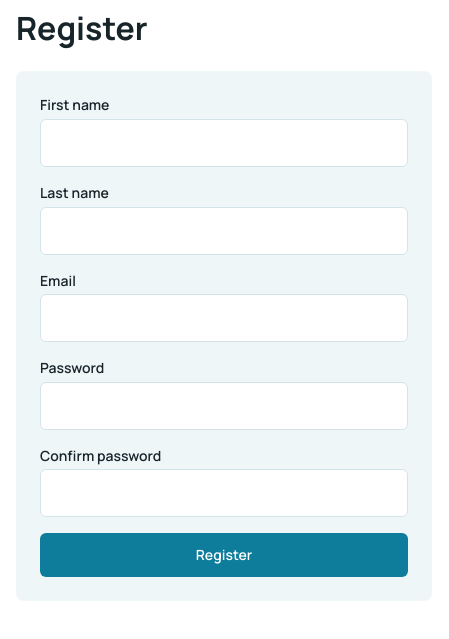
Register › shows a duplicate-email error and retains the entered email on 409
Type "John" into the field labelled "First name" at (224, 143), box 40,119 -> 408,167
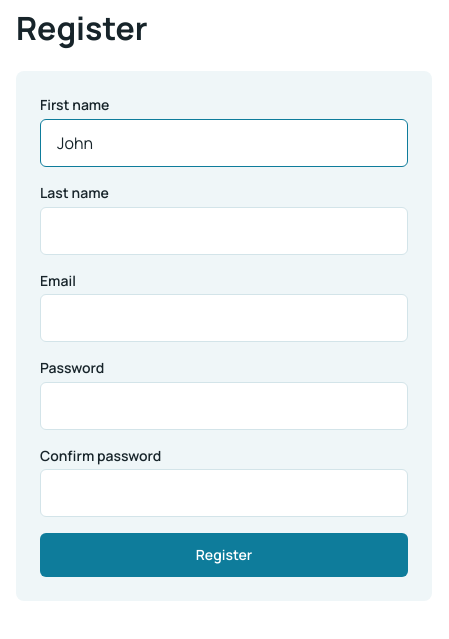
Type "Smith" into the field labelled "Last name" at (224, 231), box 40,207 -> 408,255
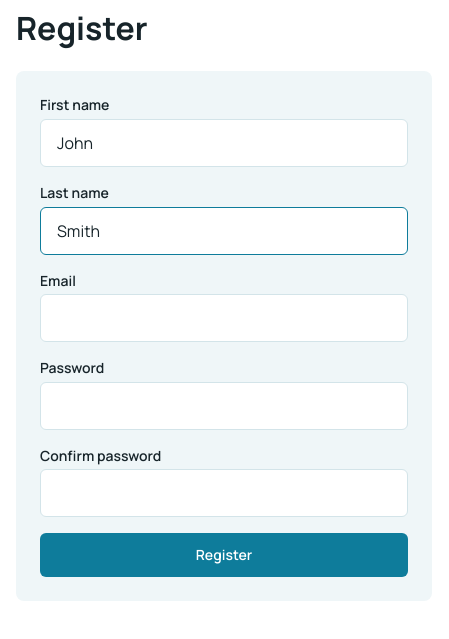
Type "john@example.com" into the field labelled "Email" at (224, 318), box 40,294 -> 408,342
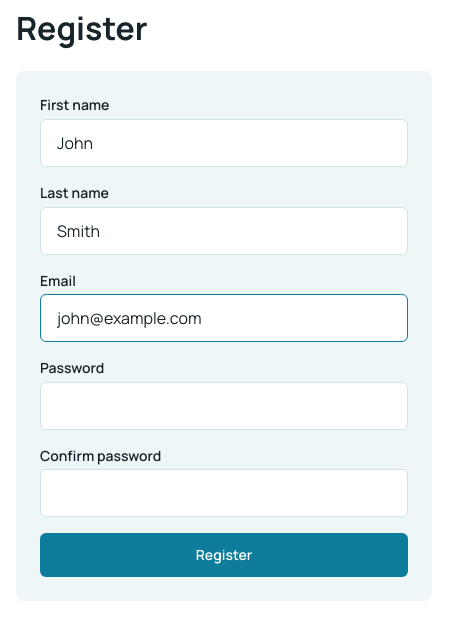
Type "hunter222" into the password field labelled "Password" at (224, 406), box 40,382 -> 408,430
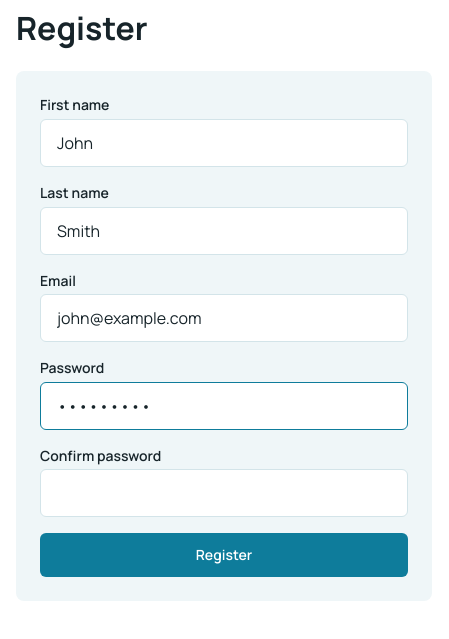
Type "hunter222" into the password field labelled "Confirm password" at (224, 493), box 40,469 -> 408,517
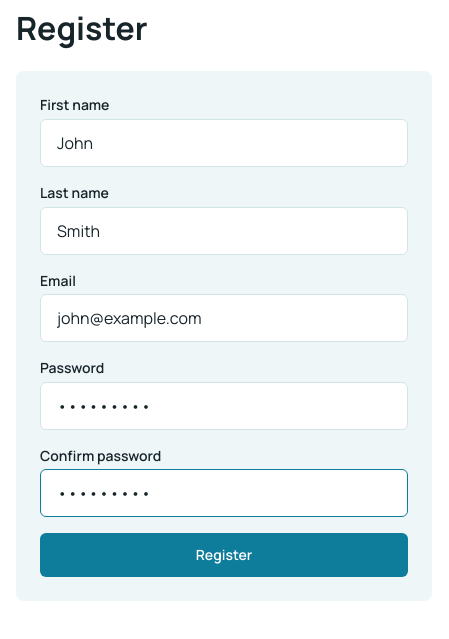
Click the button "Register" at (224, 555), box 40,533 -> 408,577
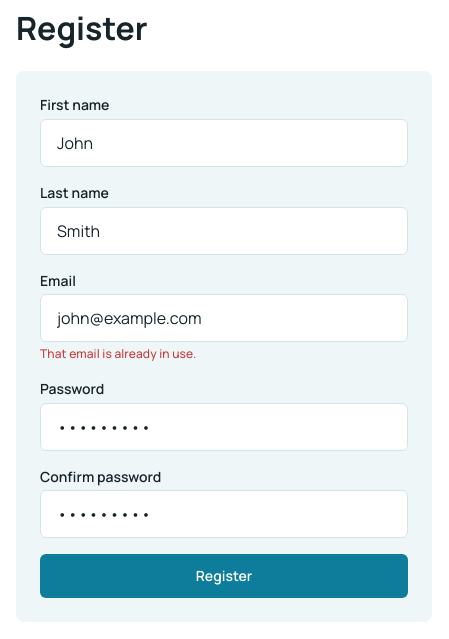
Result: the text "That email is already in use." is shown at 40,345 -> 196,362
